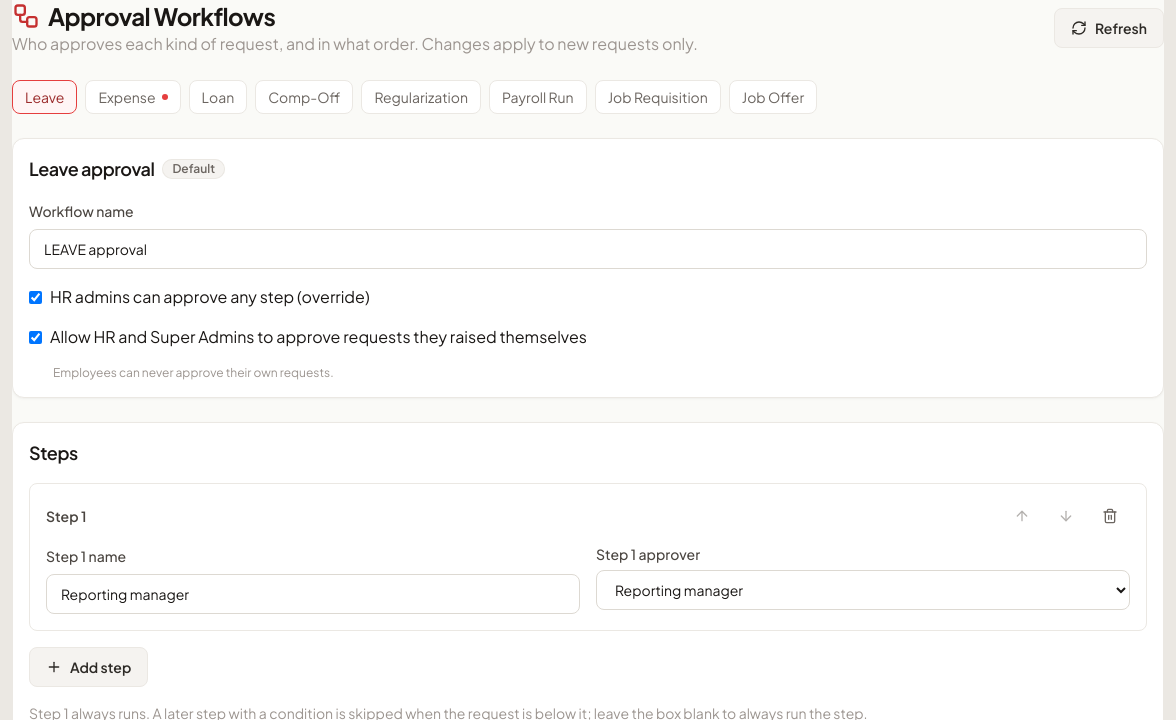
WorkflowBuilderPage › adds a step and saves the full chain with PUT
Expected: the field labelled "Step 1 name" is shown, [46,574,580,614]
Click the button "Add step".
click(89, 667)  # box [29,647,148,687]
(page scrolled)
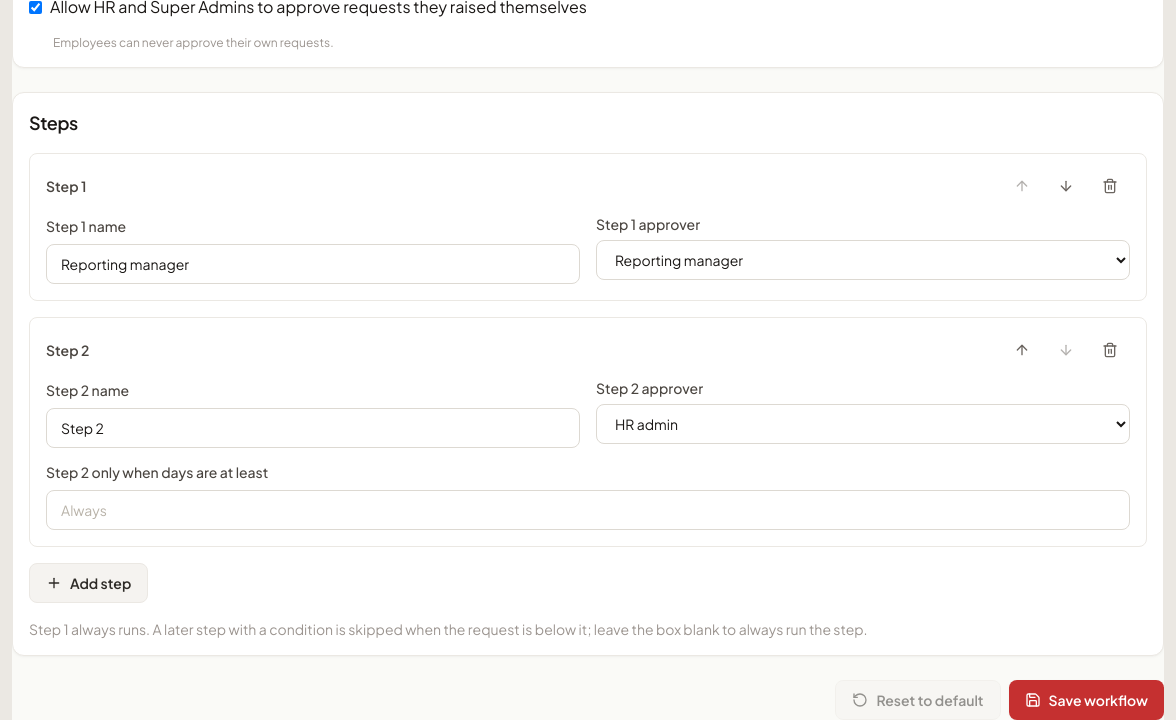
Replace the text in the field labelled "Step 2 name" with "HR review" at [313, 428], box [46,408,580,448]
Select "Anyone with a role" in the dropdown labelled "Step 2 approver" at [863, 424], box [596,404,1130,444]
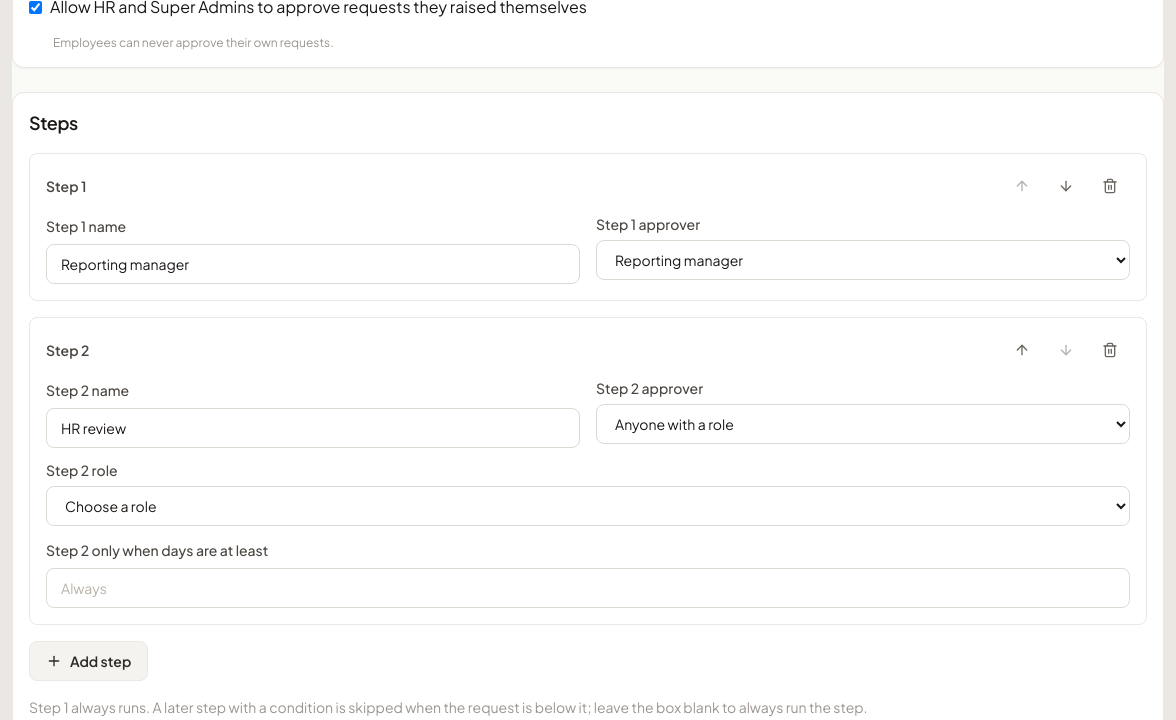
Select "HR admin" in the dropdown labelled "Step 2 role" at [588, 506], box [46,486,1130,526]
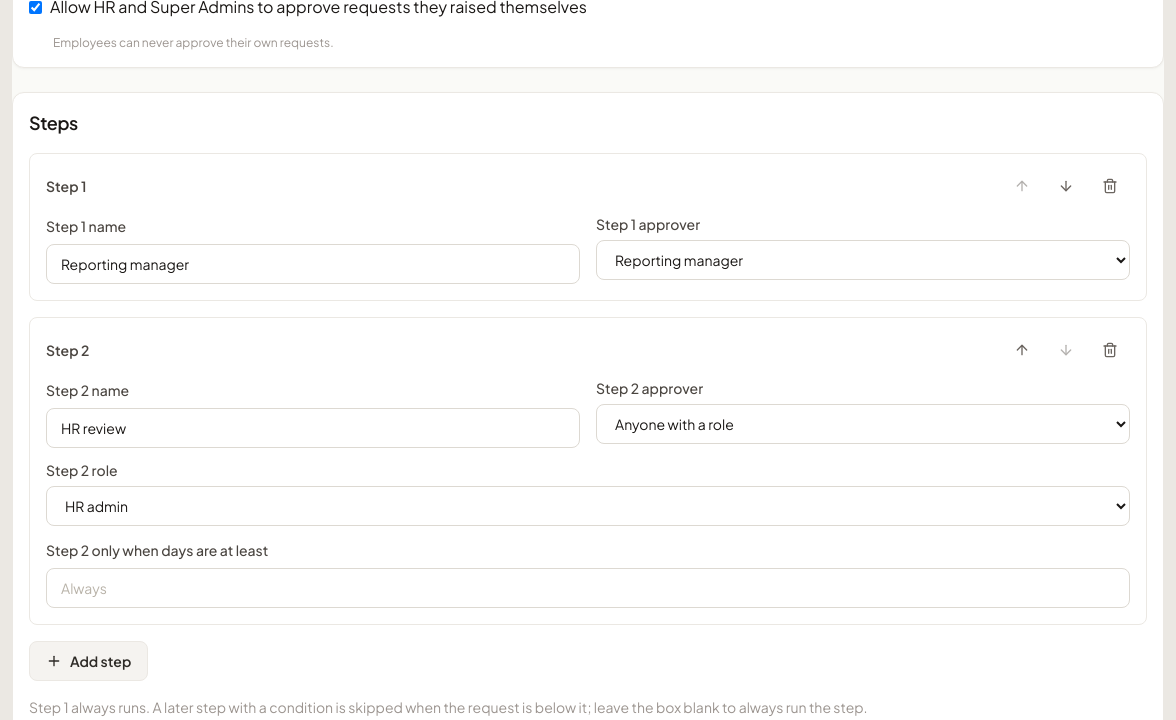
Type "5" into the number field labelled "Step 2 only when days are at least".
click(588, 588); type("5")  # box [46,568,1130,608]
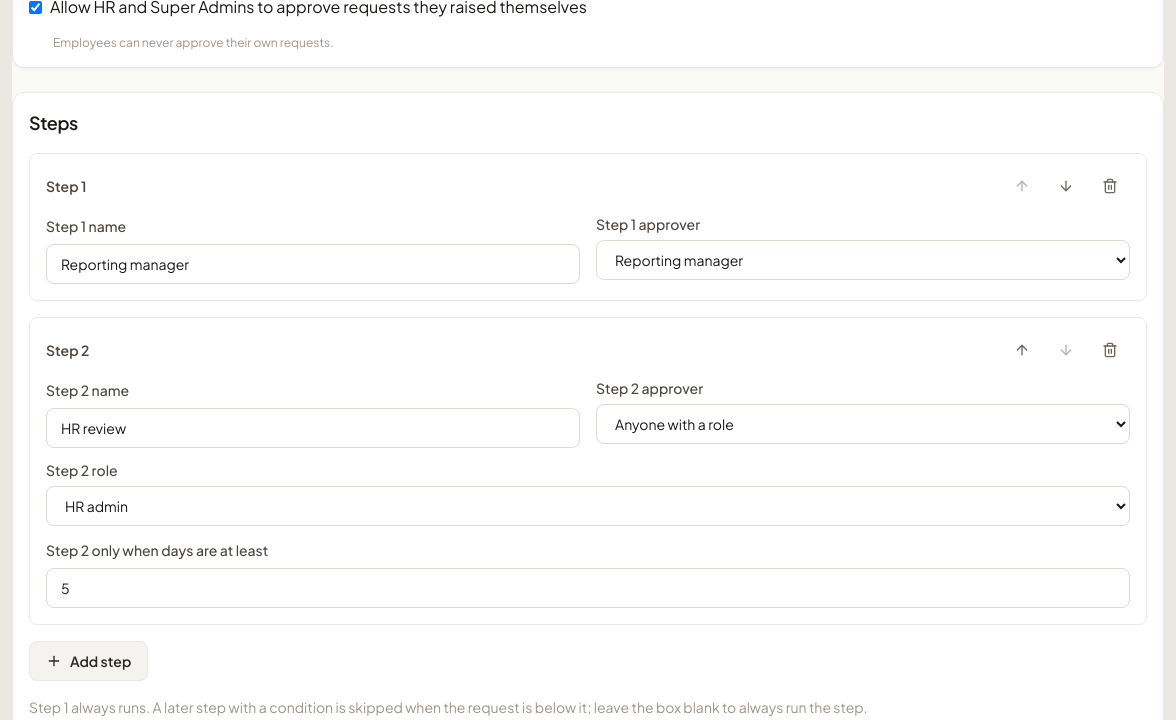
Expected: the text "Employees can never approve their own requests." is shown, [53,35,334,50]
Click the checkbox labelled "Allow HR and Super Admins to approve requests they raised themselves".
click(36, 7)  # box [29,0,42,14]
(page scrolled)
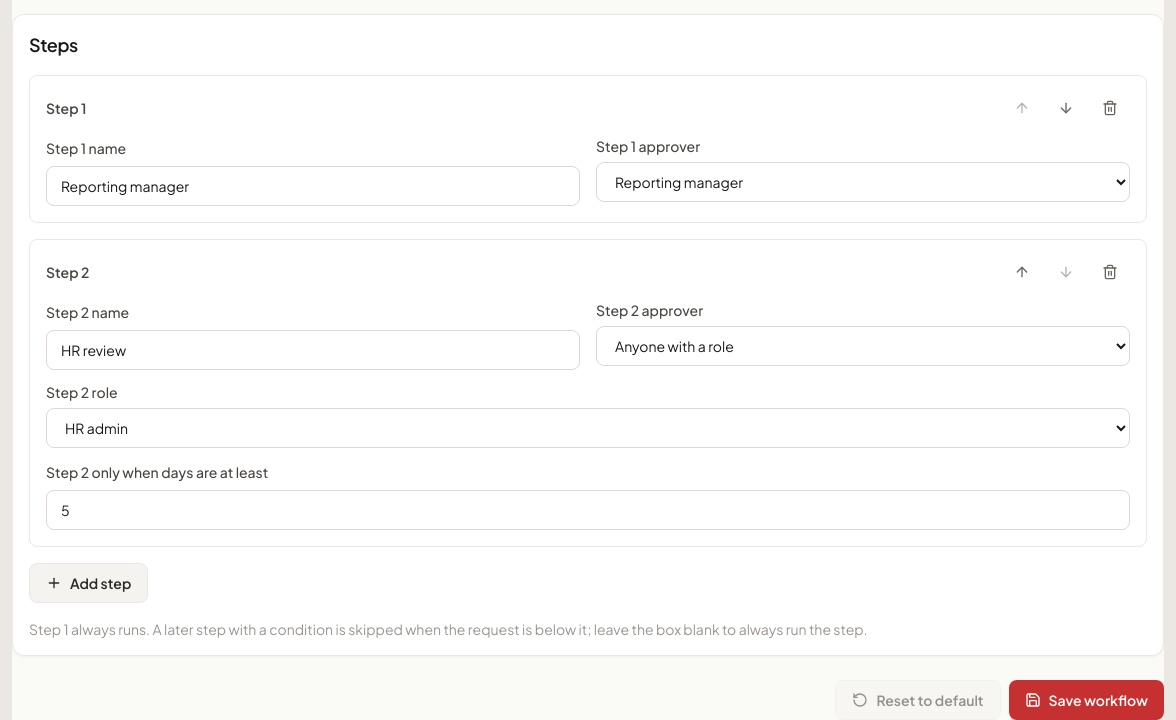
Click the button "Save workflow".
click(1086, 700)  # box [1008,680,1164,719]
(page scrolled)
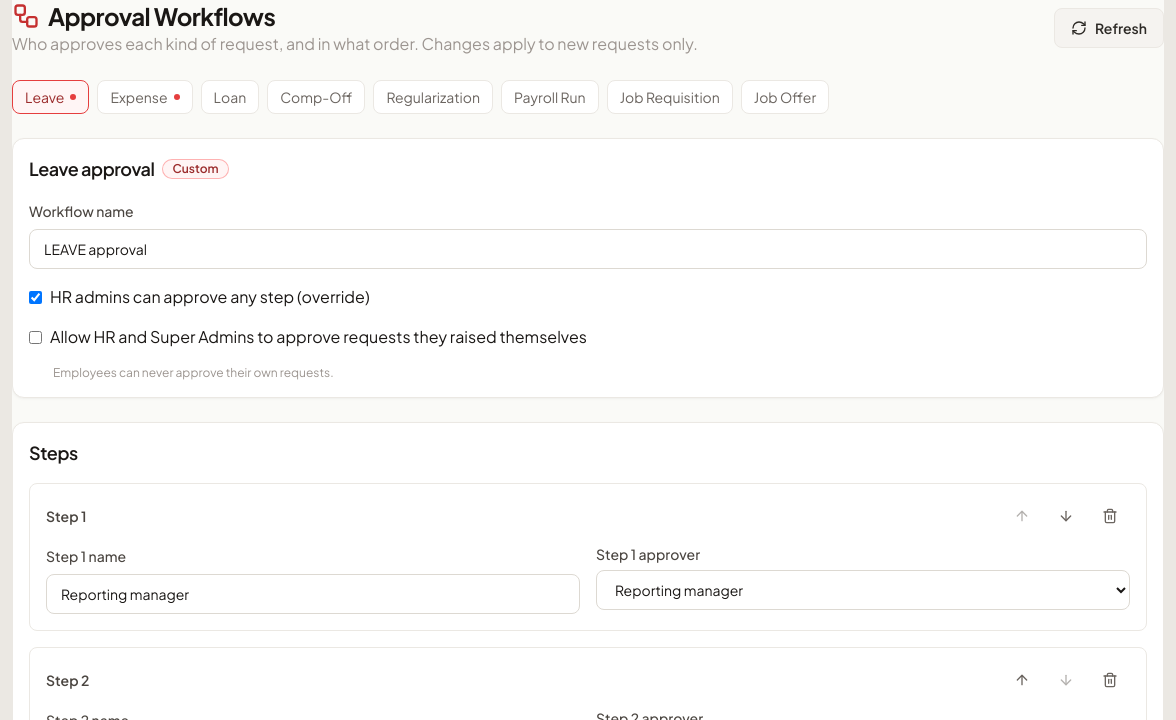
Now the text "Custom" is shown, box [162,159,229,179]
